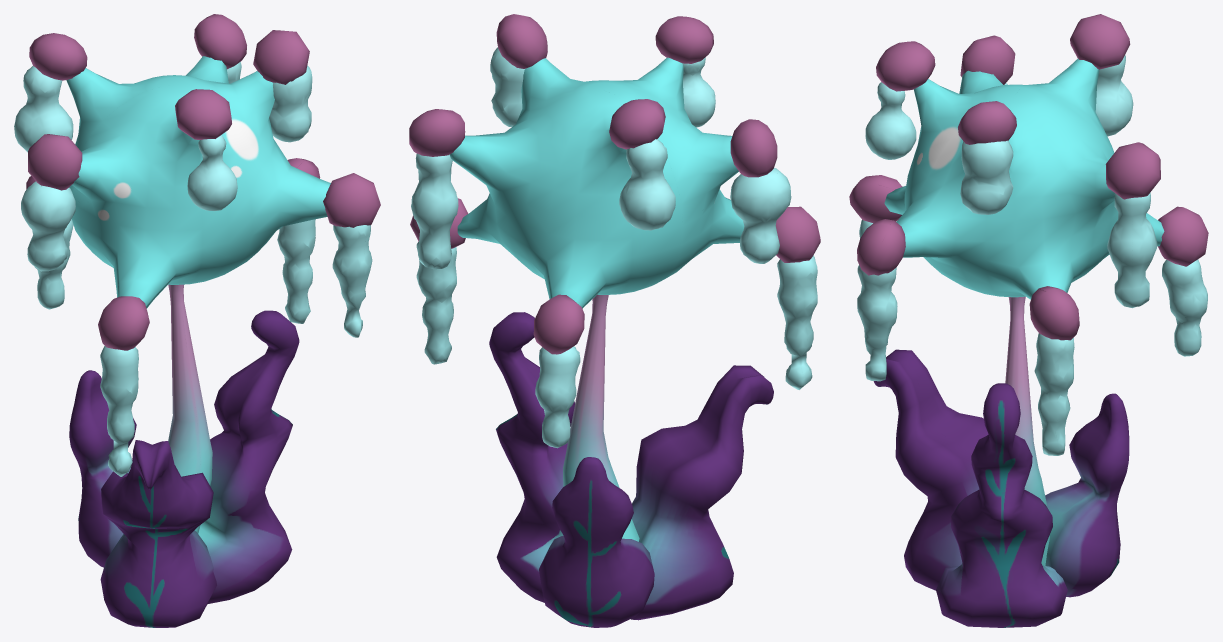
Rendered from Purple Weed.fbx.
The picture shows the model from 3 angles, left to right: view 1: azimuth 30°, elevation 25°; view 2: azimuth 150°, elevation 25°; view 3: azimuth 270°, elevation 25°; orthographic projection. The views are drawn at different scales.
Parts seen in each view (by area): view 1: Bulb, DANGLYBULBS, Big leaf, littlest leaf, EXTRABULBS, littler leaf, Sphere; view 2: Bulb, DANGLYBULBS, littlest leaf, EXTRABULBS, littler leaf, Big leaf, Sphere; view 3: Bulb, DANGLYBULBS, EXTRABULBS, Big leaf, littlest leaf, littler leaf, Sphere.
Part boxes in pixels (x1,y1,x2,y2): Bulb: (66,56,330,308); DANGLYBULBS: (14,62,372,476); Big leaf: (198,310,299,604); littlest leaf: (100,440,216,627); EXTRABULBS: (26,14,380,350); littler leaf: (69,370,136,567); Sphere: (168,284,212,533); Bulb: (449,57,744,308); DANGLYBULBS: (411,47,817,448); littlest leaf: (631,365,773,620); EXTRABULBS: (409,14,820,354); littler leaf: (539,457,654,627); Big leaf: (489,312,574,602); Sphere: (563,294,639,541); Bulb: (884,58,1164,299); DANGLYBULBS: (857,55,1207,455); EXTRABULBS: (849,14,1208,340); Big leaf: (936,383,1067,627); littlest leaf: (873,349,988,590); littler leaf: (1045,393,1129,597); Sphere: (1005,296,1049,565).
Size of the model in its own units: 49.59 by 78.41 by 46.31.
